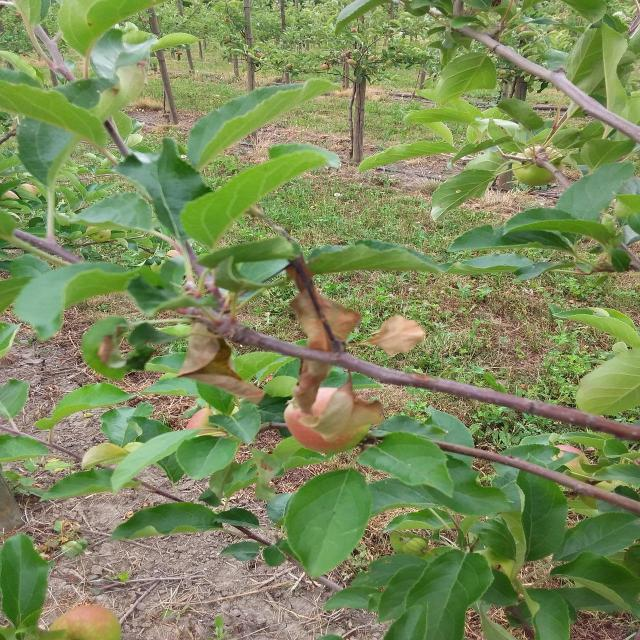-FireBlight-: (280, 236, 350, 405), (180, 312, 253, 410), (318, 367, 382, 440), (368, 309, 422, 375)
